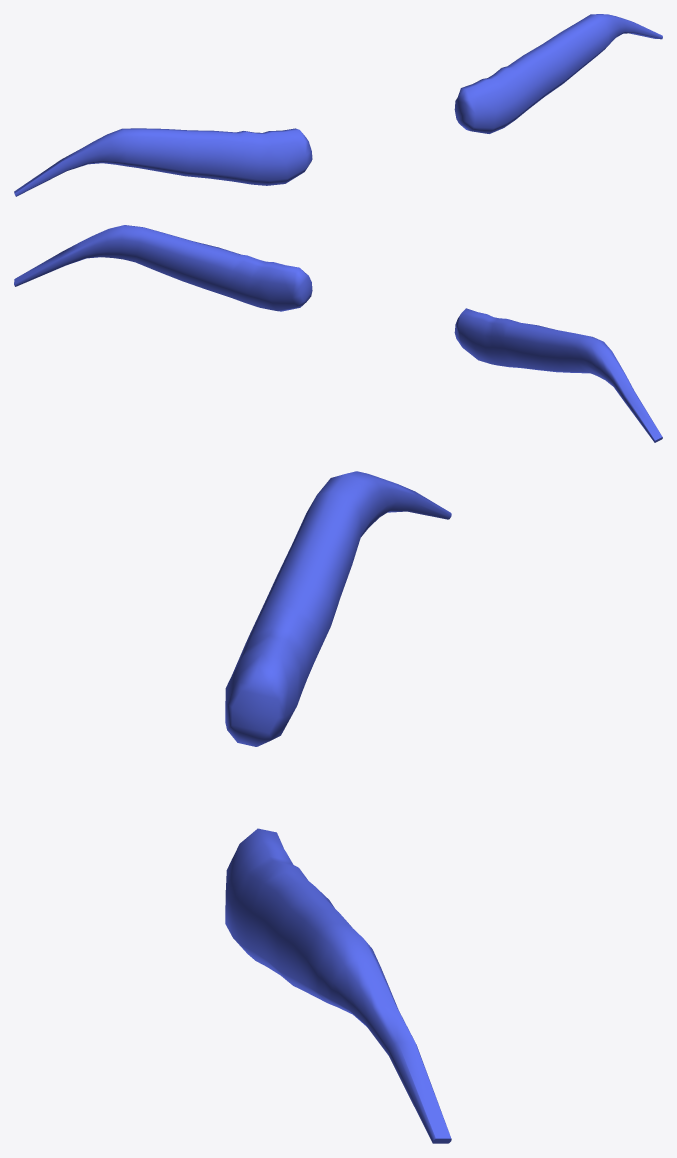
File: Eyebrows_08_03.fbx
The picture shows the model from 3 angles, top to bottom: view 1: azimuth 30°, elevation 25°; view 2: azimuth 150°, elevation 25°; view 3: azimuth 270°, elevation 25°; orthographic projection. The views are drawn at different scales.
Visible parts, largest first — view 1: Eyebrows_08_03; view 2: Eyebrows_08_03; view 3: Eyebrows_08_03.
Part boxes in pixels (bbox=[...]): Eyebrows_08_03: bbox=[14, 14, 662, 196]; Eyebrows_08_03: bbox=[14, 225, 662, 442]; Eyebrows_08_03: bbox=[225, 471, 451, 1143].
Size of the model in its own units: 19.15 by 1.96 by 2.9.
